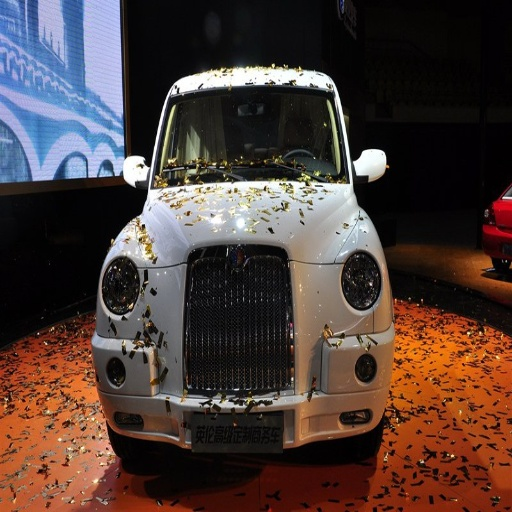front_bumper: (92, 261, 388, 452)
front_right_light: (103, 221, 152, 309)
hood: (145, 180, 352, 264)
